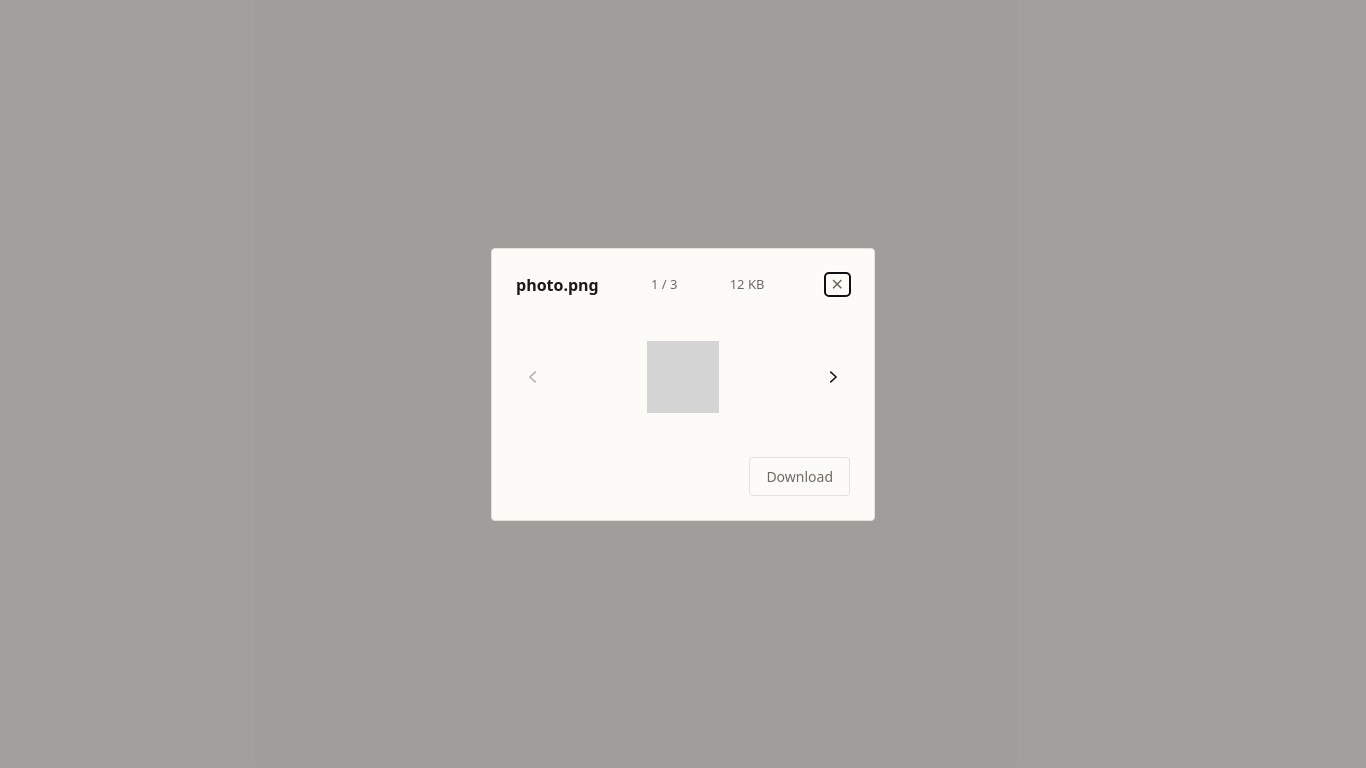
AttachmentViewerModal › navigates between images with the arrows and counts the position
The width and height of the screenshot is (1366, 768).
Expected: the text "1 / 3" is shown, 651,275 -> 677,294
Expected: the button named "Previous image" is disabled, 516,316 -> 550,436
Click the button named "Next image": x=833, y=376 816,316 -> 850,436
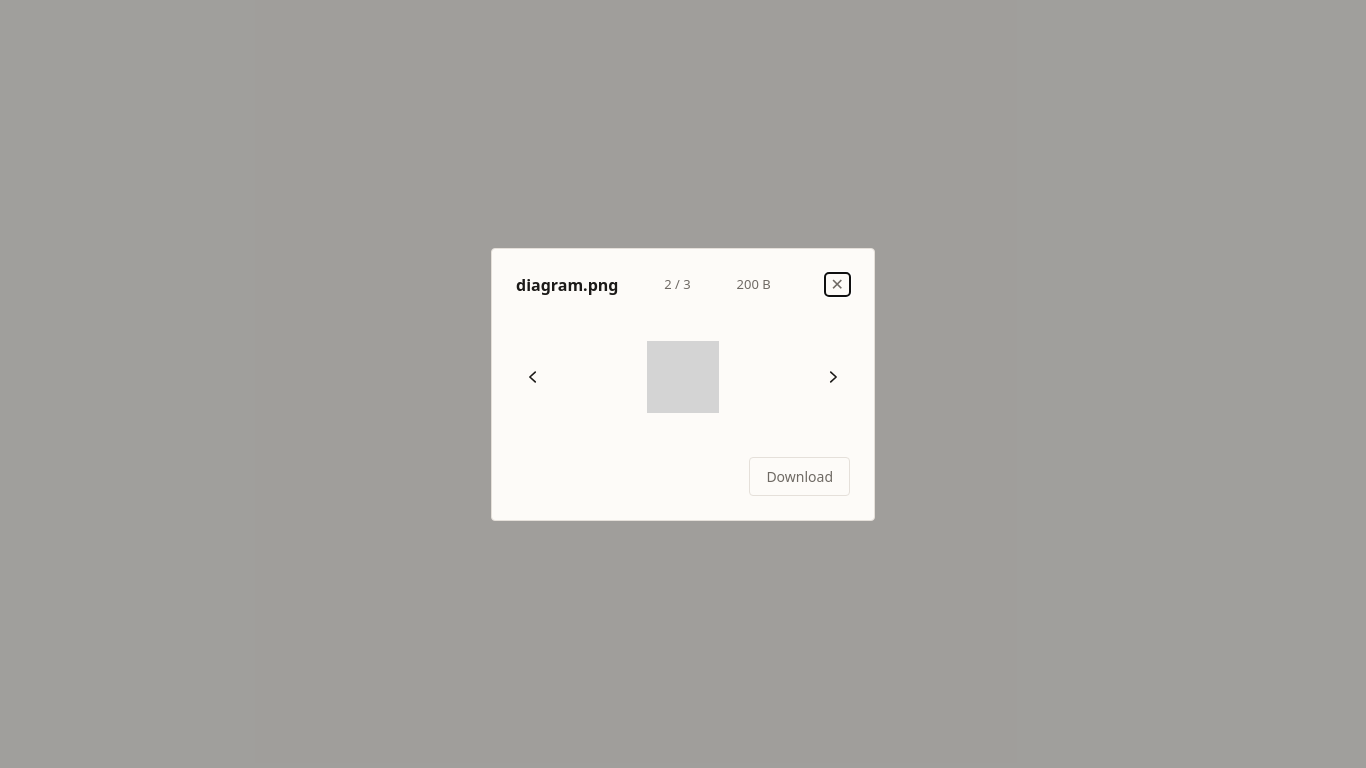
Expected: the text "2 / 3" is shown, 664,275 -> 691,294
Expected: the button named "Previous image" is enabled, 516,316 -> 550,436
Click the button named "Next image": x=833, y=376 816,316 -> 850,436
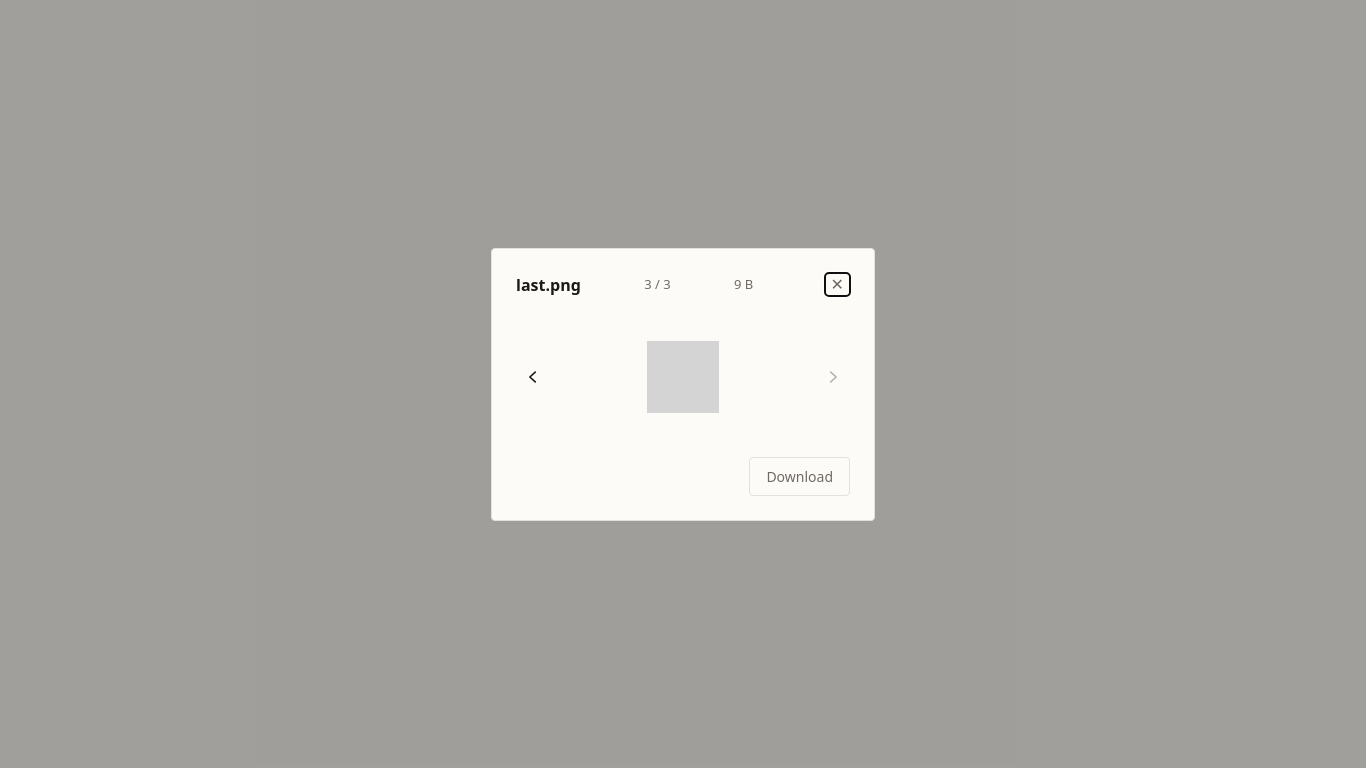
Expected: the text "3 / 3" is shown, 644,275 -> 671,294
Expected: the button named "Next image" is disabled, 816,316 -> 850,436
